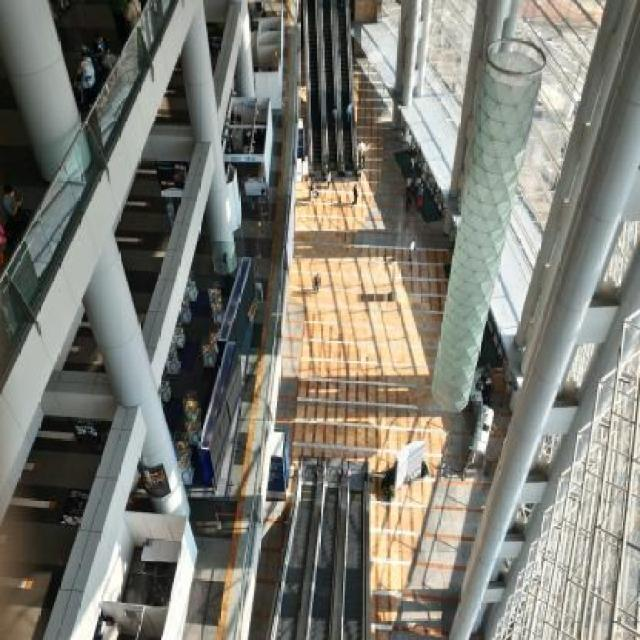stair: (275, 484, 315, 640), (310, 486, 338, 639), (343, 489, 365, 640), (338, 0, 357, 169), (323, 0, 337, 169), (309, 2, 323, 170)
